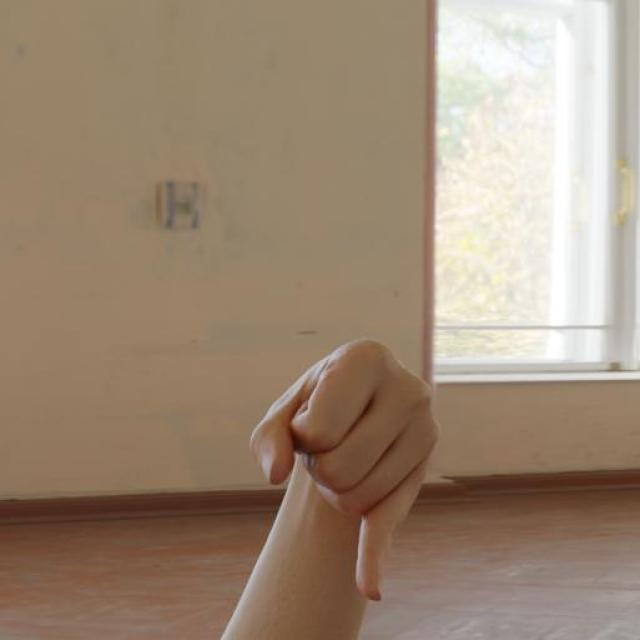J: (194, 289, 480, 639)
